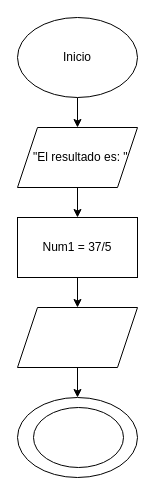
Some shapes in this 155 by 495 pixel diagram are drawn without their labels. Each missing label, with the box of its shape:
Fin: (32, 406, 124, 468)
Num1: (16, 306, 138, 368)
